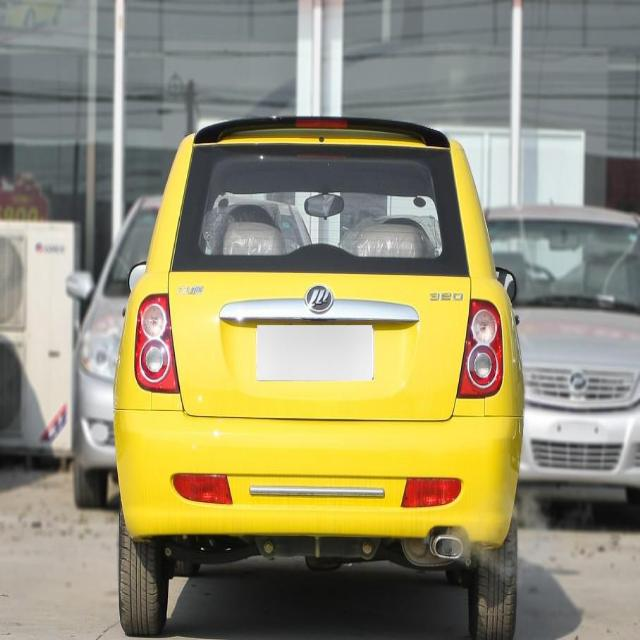back_glass: (171, 135, 468, 281)
back_left_side_light: (134, 288, 180, 399)
back_right_side_light: (455, 296, 504, 403)
front_left_side_mirror: (125, 258, 148, 296)
front_right_side_mirror: (494, 262, 522, 300)
rear_bumper: (111, 400, 525, 557)
wheel: (470, 528, 518, 637), (118, 526, 164, 638)
